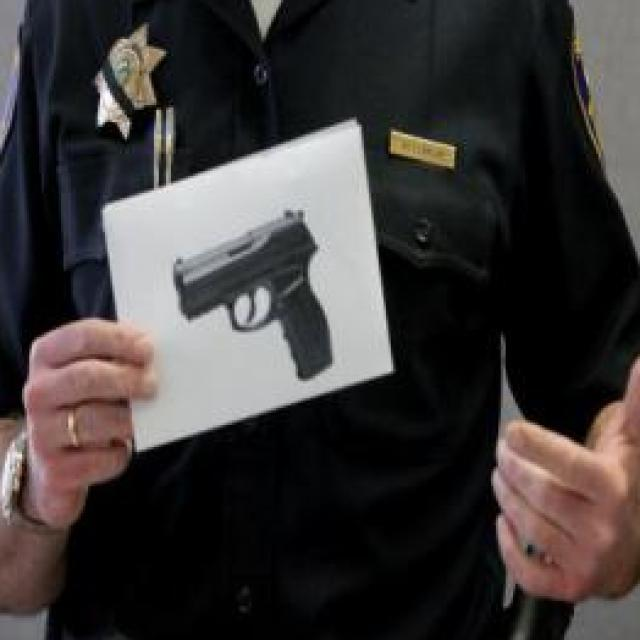pistol: (173, 195, 344, 388)
